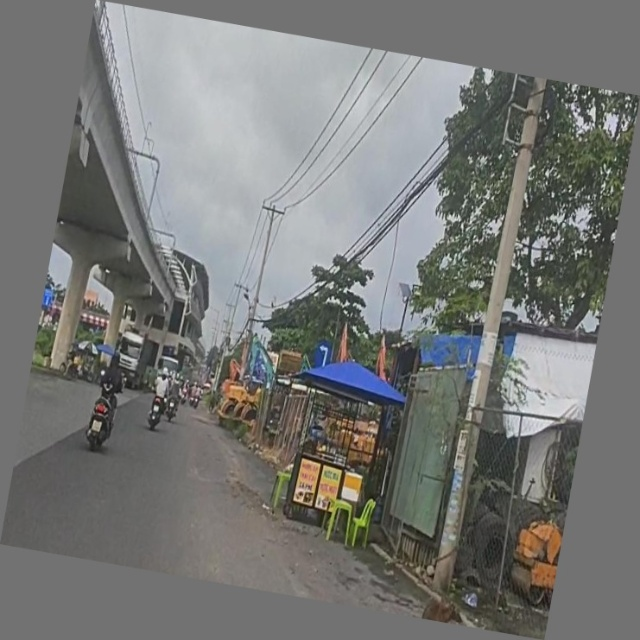R.301e: (313, 341, 332, 371)
